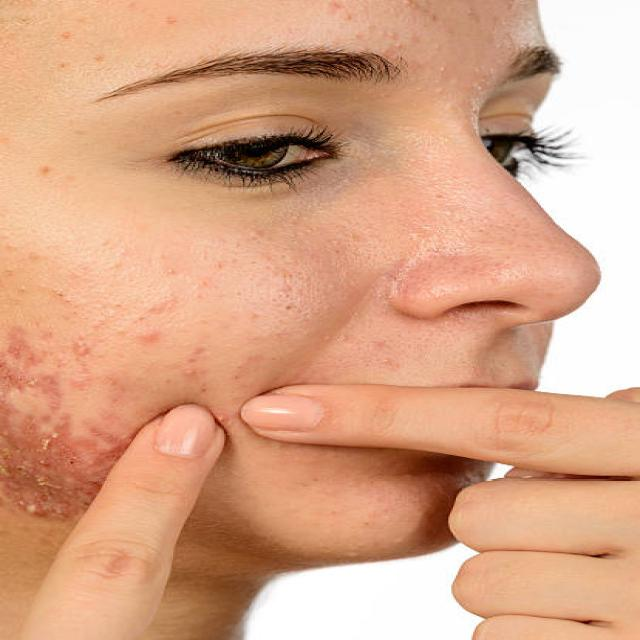Dry-Skin: (139, 47, 526, 185), (191, 204, 394, 349), (36, 19, 180, 216), (8, 312, 214, 411), (379, 0, 518, 137), (453, 178, 640, 270), (28, 408, 165, 530)
